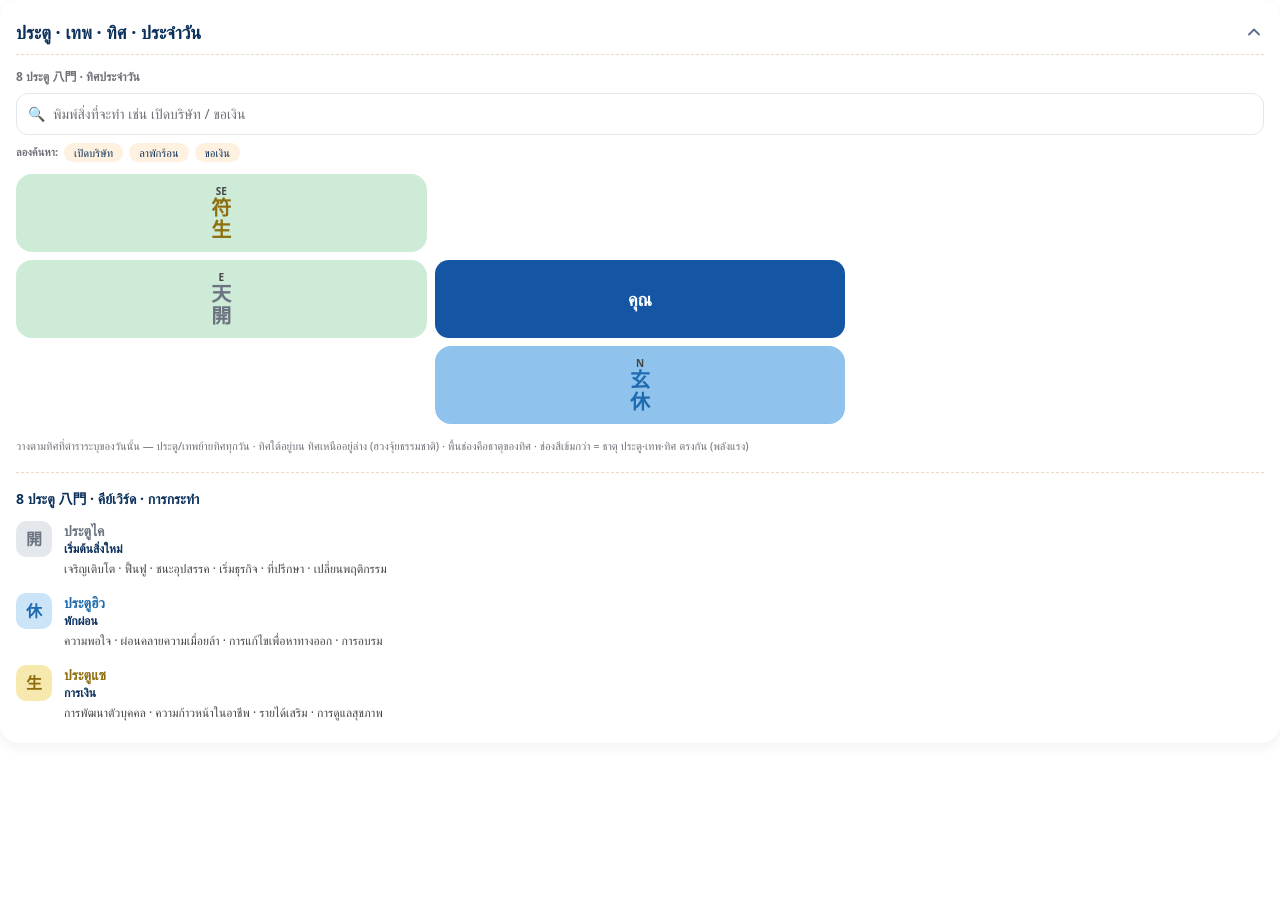
Scenario: B · ช่องค้นหาบนตารางประตู › คำที่ตรง keyword → เน้นช่องของประตูนั้น (data-match) + บอกทิศ
Type "เริ่มต้นกิจการ" into the search field named "ค้นหาว่าควรไปทิศไหน" at (640,114), box [16, 93, 1264, 135]
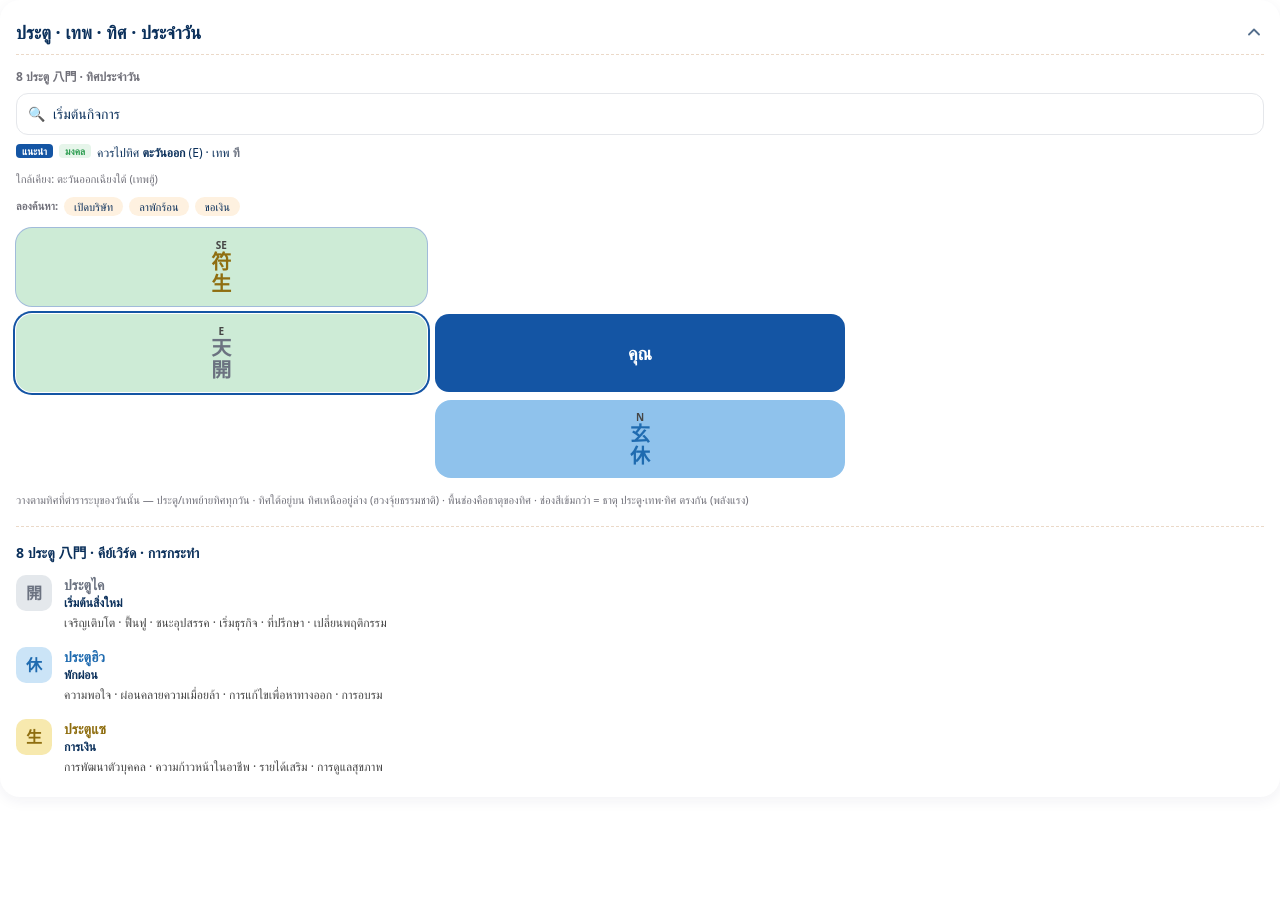
Now the element with test id "gate-search-hit" shows "ตะวันออก", box [142, 144, 185, 161]
